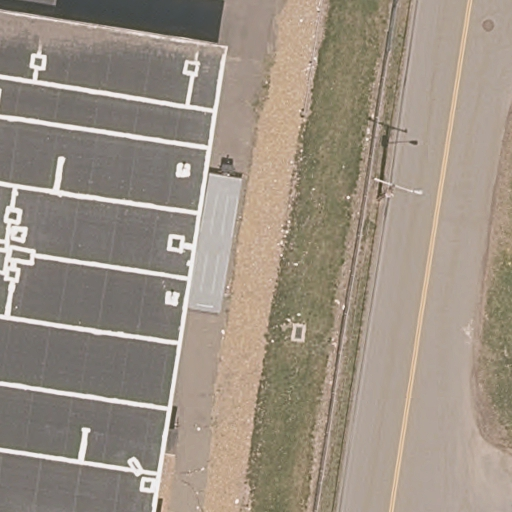DT: (371, 174, 421, 198)
